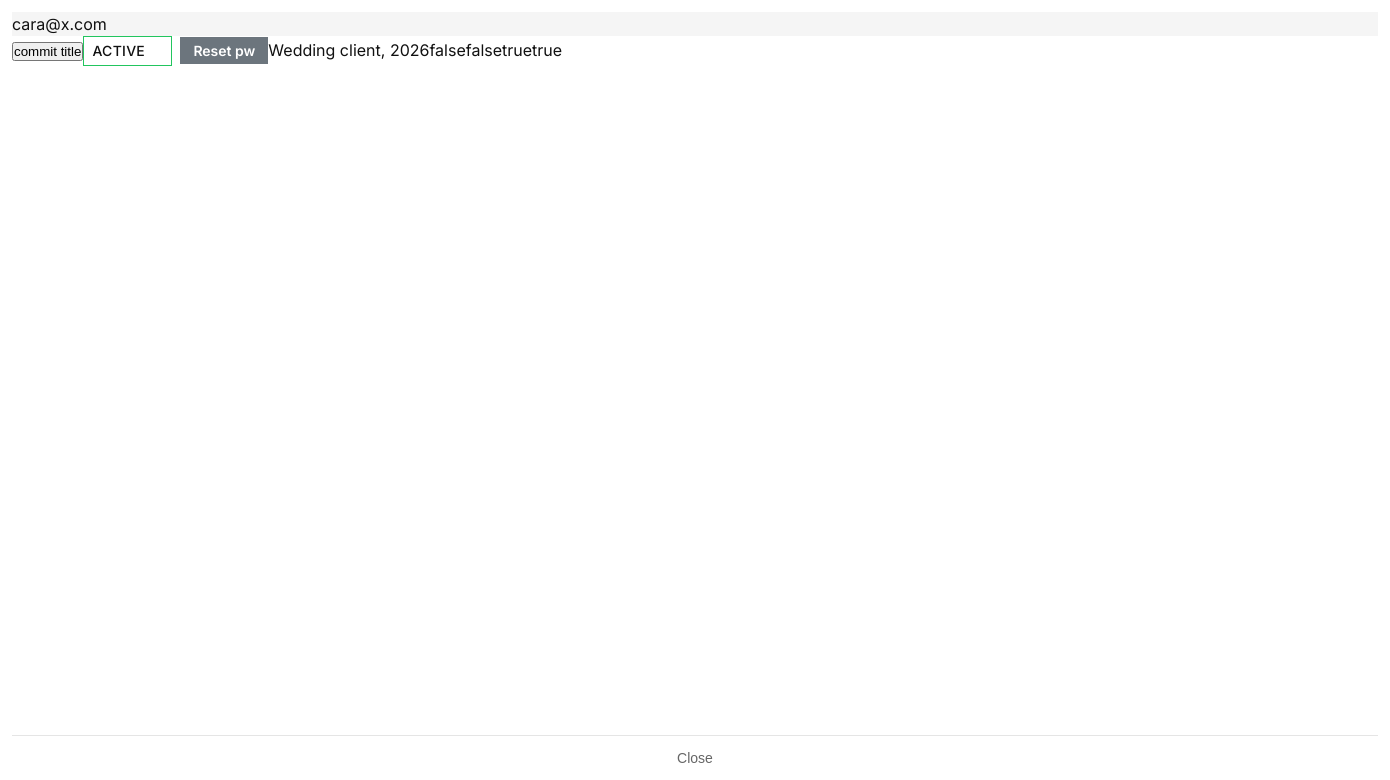
Test: AdminUserSpaceEditor › reverts on Escape without writing
Click the button with aria-label "Description": (349, 50) [268, 40, 429, 60]
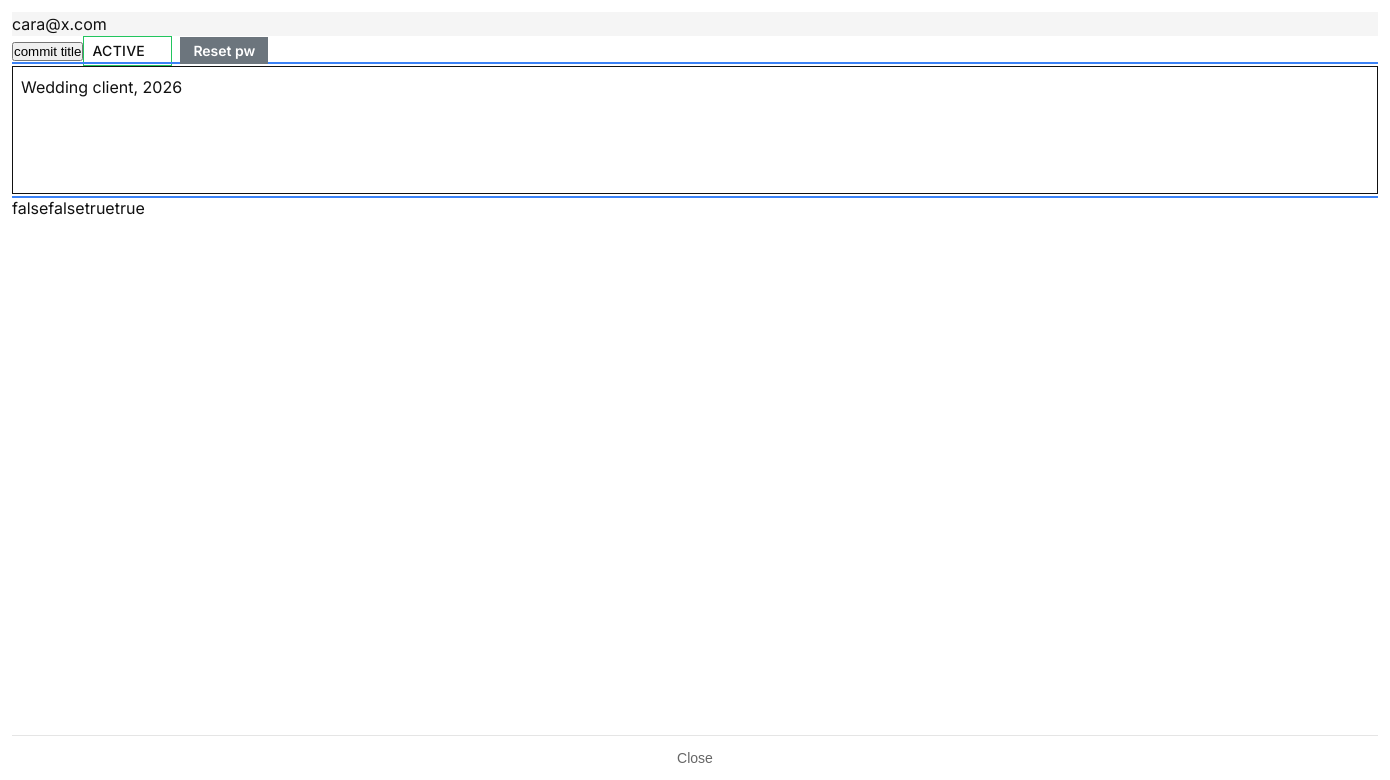
Replace the text in the text box named "Description" with "Wrong": (695, 130) [12, 66, 1378, 194]
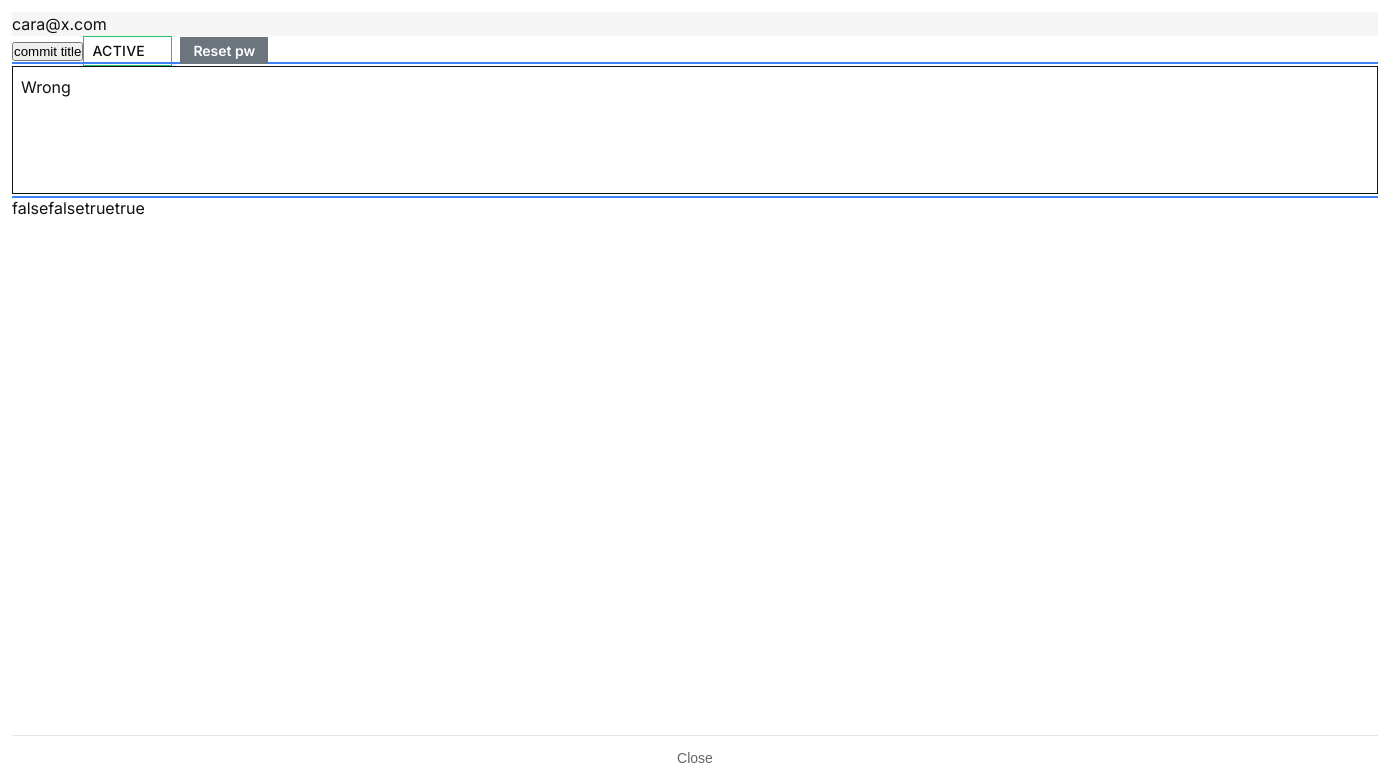
Press Escape in the text box named "Description", box [12, 66, 1378, 194]
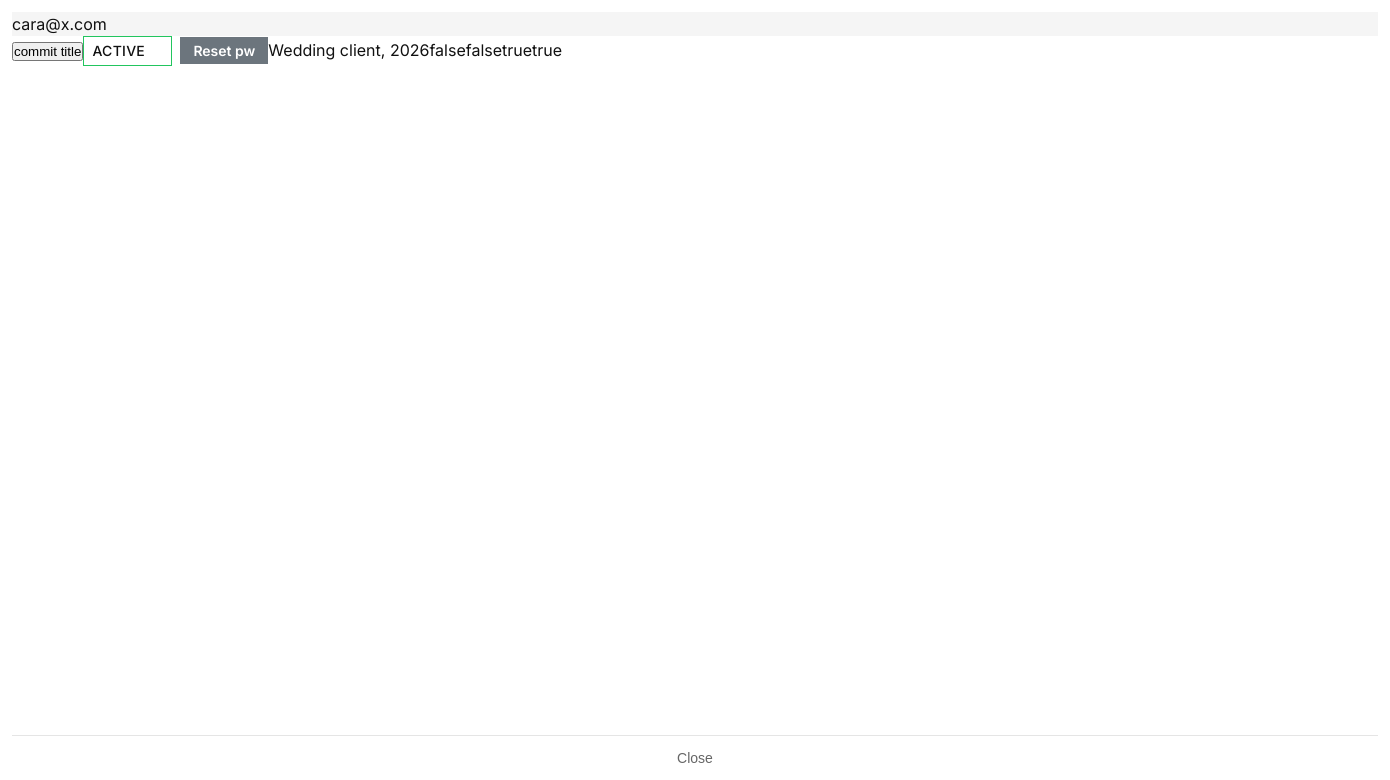
expect the button with aria-label "Description" reads "Wedding client, 2026": met, box [268, 40, 429, 60]
